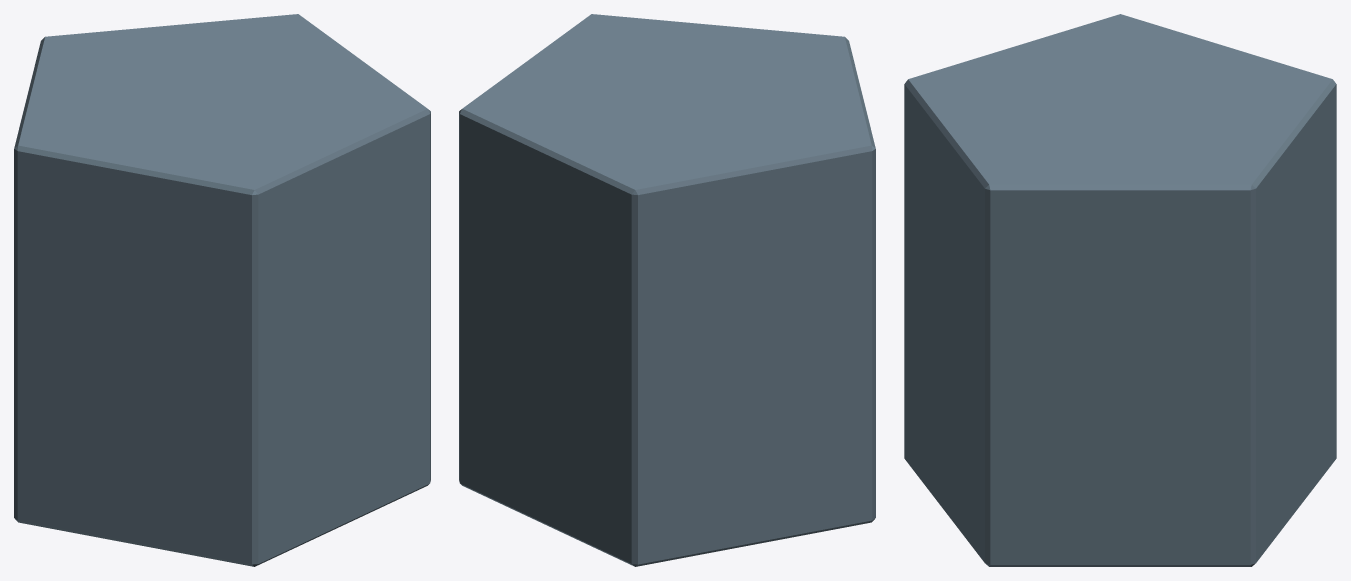
File: P22_PentagonalPrism.fbx
3 views of the same model, side by side, from view 1: azimuth 30°, elevation 25°; view 2: azimuth 150°, elevation 25°; view 3: azimuth 270°, elevation 25° (orthographic).
Parts seen in each view (by area): view 1: P22_PentagonalPrism; view 2: P22_PentagonalPrism; view 3: P22_PentagonalPrism.
Boxes of the visible parts, <box> form: P22_PentagonalPrism: <box>14,14,430,566</box>; P22_PentagonalPrism: <box>459,14,875,566</box>; P22_PentagonalPrism: <box>904,14,1336,566</box>.
Size of the model in its own units: 1.17 by 1.2 by 1.23.
1 material, 1 textured.
